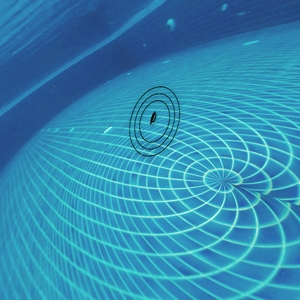circle: (115, 75, 199, 177)
